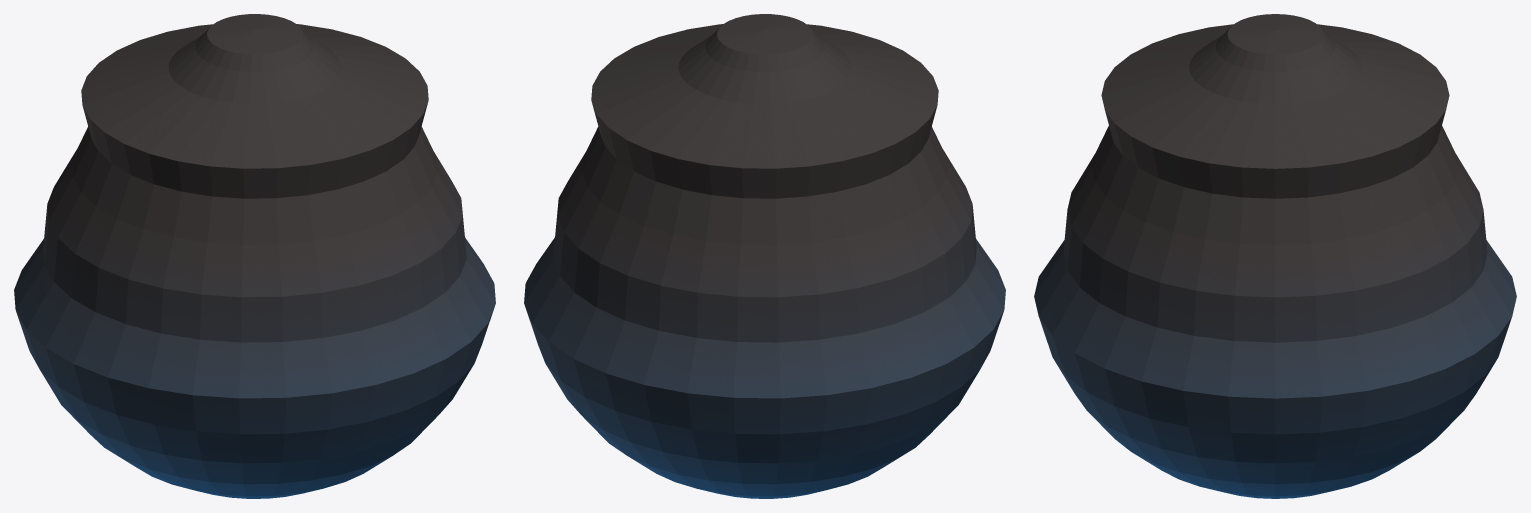
The model's file is playerShot.fbx.
3 views of the same model, side by side, from view 1: azimuth 30°, elevation 25°; view 2: azimuth 150°, elevation 25°; view 3: azimuth 270°, elevation 25° (orthographic).
Visible parts, largest first — view 1: 球; view 2: 球; view 3: 球.
Boxes of the visible parts, x1,y1,x2,y2 form: 球: (14,14,495,498); 球: (524,14,1005,498); 球: (1034,14,1516,498).
Size of the model in its own units: 1.47 by 1.5 by 1.47.
Materials: 1 (1 with a texture image).
